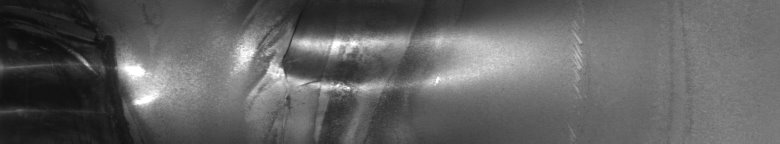ke: (250, 23, 441, 135)
